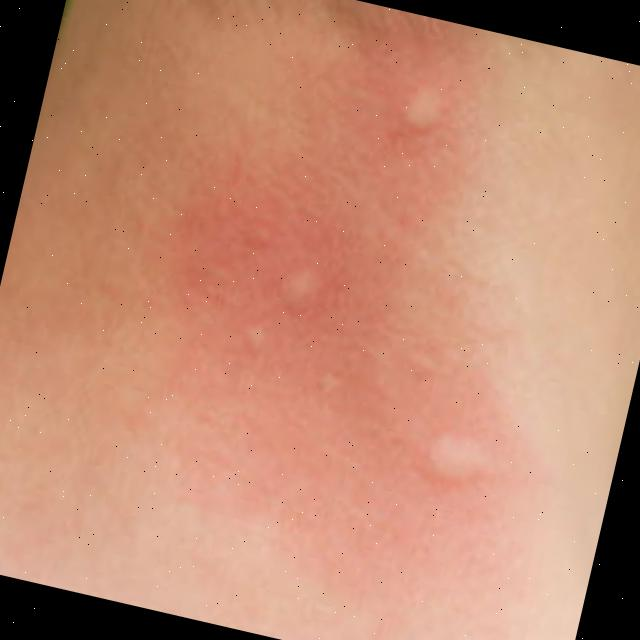sinek: (396, 402, 514, 519), (381, 64, 472, 161), (217, 303, 288, 391), (270, 256, 346, 321)
